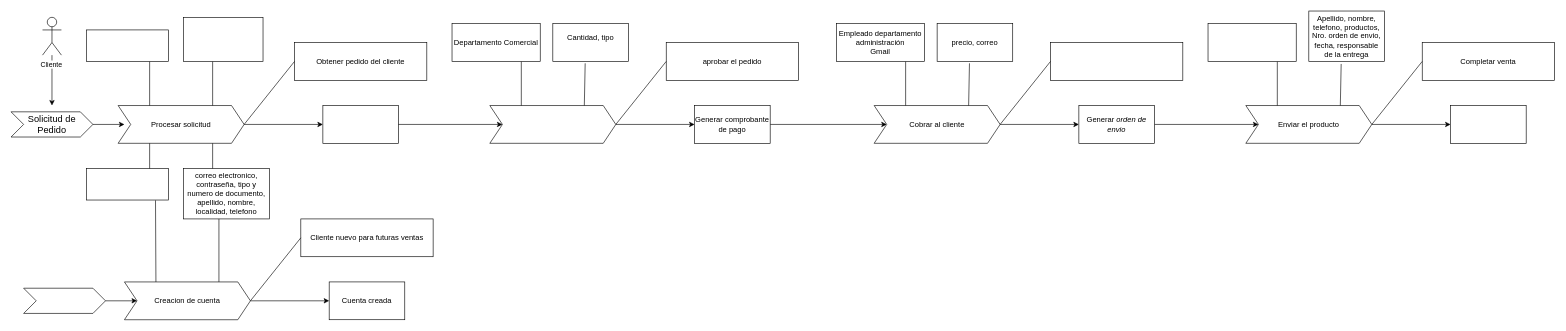
This 1566x331 diagram has some shape labels left out. Here are the shapes that lost their labels. From the top down, the box of each, then its label:
(86, 29, 169, 61): Software hause deco
(183, 17, 263, 61): Cantidad, color, domicilio, país, provincia y localidad. Costo de envio
(1207, 23, 1296, 61): Empleado departamento logistica Gmail
(1050, 42, 1183, 80): Recibir pago
(322, 105, 398, 143): Orden de pedido
(489, 105, 616, 143): Verificar Stock
(1450, 105, 1526, 143): Generar orden de instalacion
(86, 168, 169, 200): Registro de la pagina del software hause deco
(23, 288, 106, 313): Nueva cuenta
